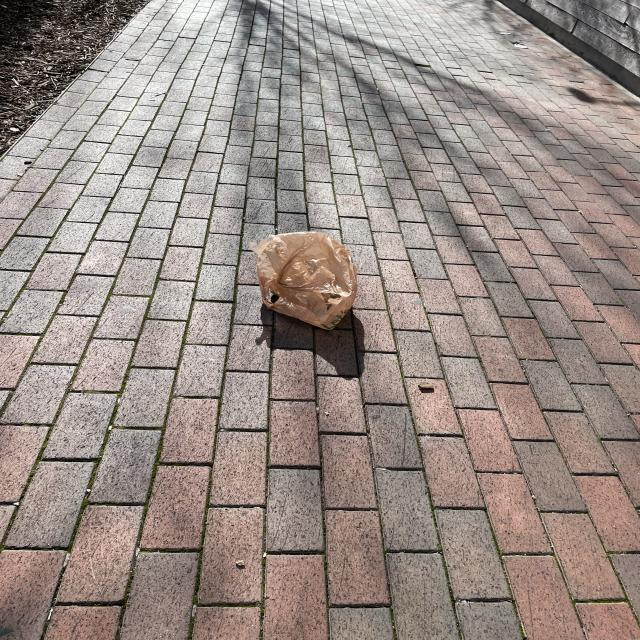plastic: (245, 228, 364, 336)
trash-zQNu: (241, 229, 368, 336)
